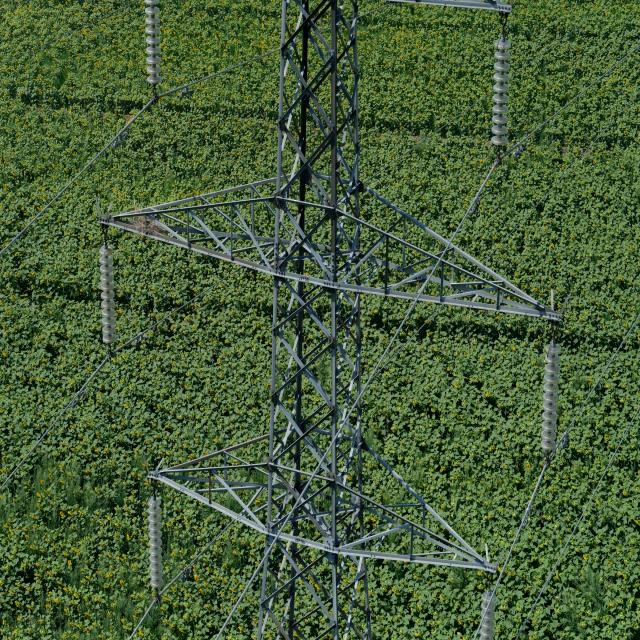voltage_line: (156, 1, 494, 628)
